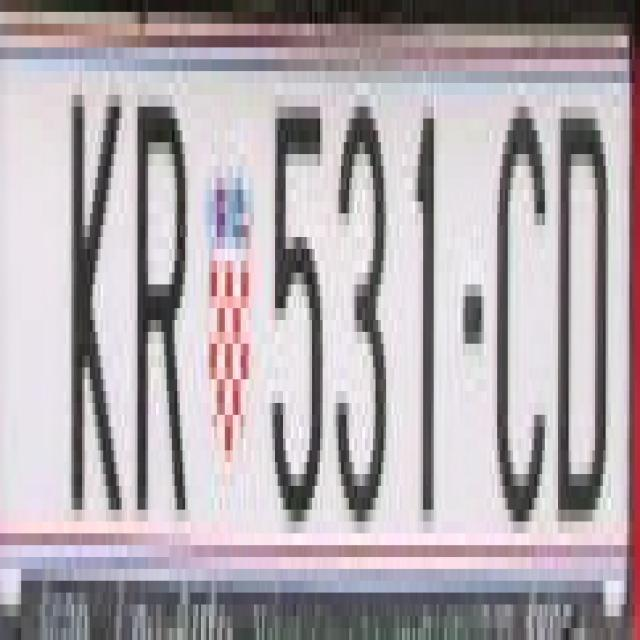1: (412, 83, 440, 510)
3: (336, 83, 389, 510)
5: (270, 106, 326, 522)
C: (492, 83, 550, 510), (558, 106, 606, 522)
K: (66, 106, 130, 522)
